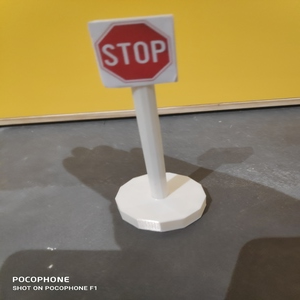stop-bord: (94, 21, 175, 82)
